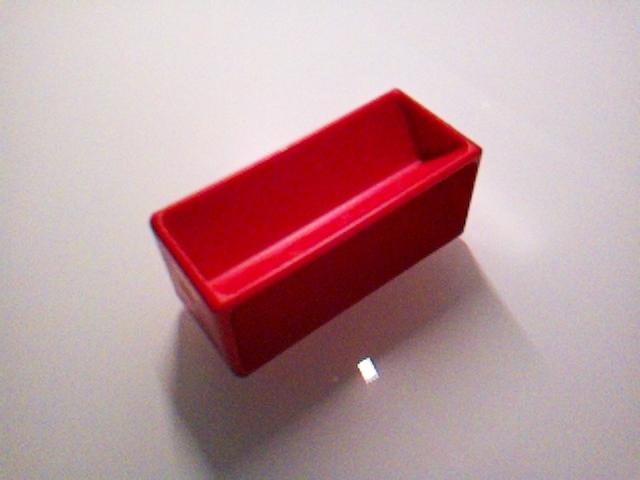red: (148, 86, 484, 378)
